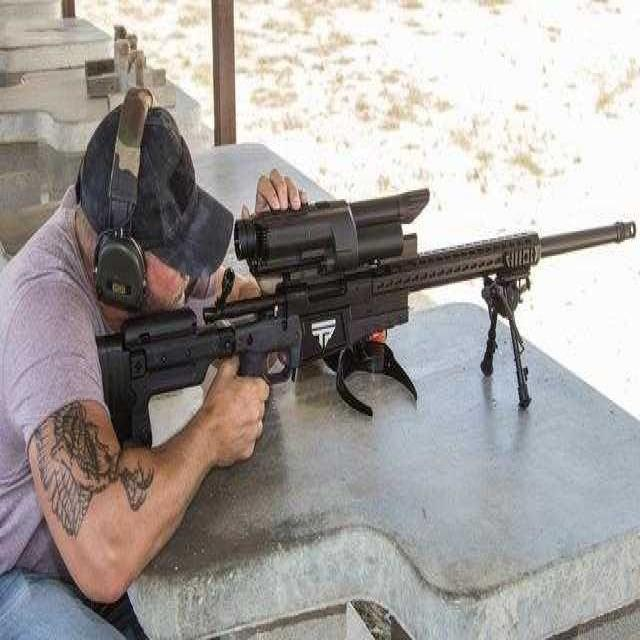weapon: (83, 164, 640, 478)
